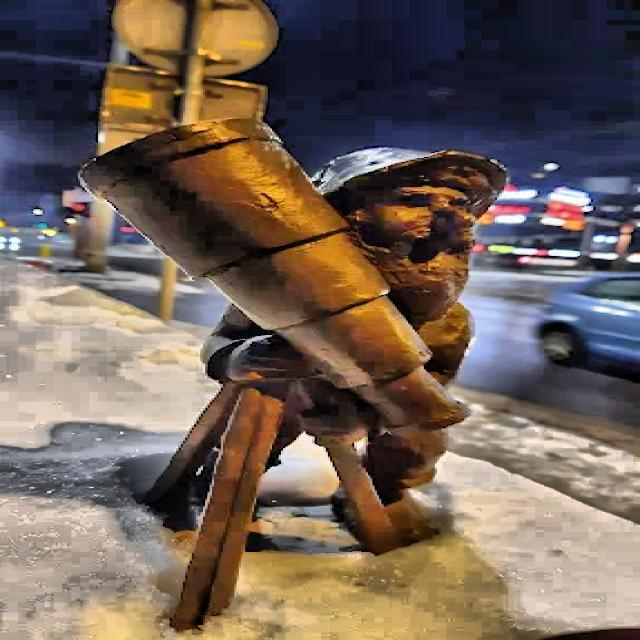Lunetyk: (78, 119, 508, 634)
